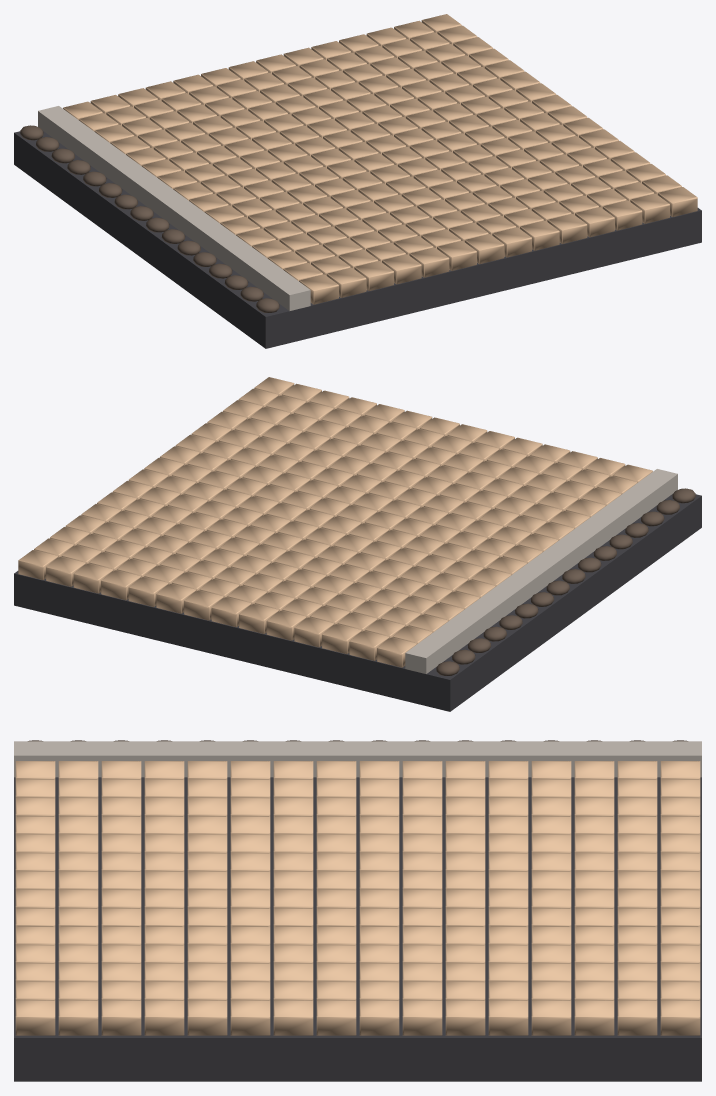
File: 28-sidewalk-straight.glb
3 renders of one model, top to bottom at view 1: azimuth 30°, elevation 25°; view 2: azimuth 150°, elevation 25°; view 3: azimuth 270°, elevation 25°, orthographic. The views are drawn at different scales.
Parts seen in each view (by area): view 1: Base, Curb, PaverProto.065, PaverProto.145, PaverProto.177, PaverProto.129, PaverProto.081, PaverProto.017, PaverProto.161, PaverProto.209, PaverProto.001, PaverProto.033 (+4 smaller); view 2: Base, Curb, PaverProto.080, PaverProto.160, PaverProto.192, PaverProto.144, PaverProto.096, PaverProto.032, PaverProto.176, PaverProto.224, PaverProto.016, PaverProto.048 (+4 smaller); view 3: Base, Curb, PaverProto.209, PaverProto.210, PaverProto.211, PaverProto.212, PaverProto.213, PaverProto.214, PaverProto.215, PaverProto.216, PaverProto.217, PaverProto.218 (+214 smaller).
Part boxes in pixels (<box>): Base: <box>14,131,701,348</box>; Curb: <box>38,106,310,310</box>; PaverProto.065: <box>409,247,449,277</box>; PaverProto.145: <box>547,214,587,243</box>; PaverProto.177: <box>602,200,642,230</box>; PaverProto.129: <box>519,220,559,250</box>; PaverProto.081: <box>437,240,476,270</box>; PaverProto.017: <box>326,267,366,297</box>; PaverProto.161: <box>575,207,614,237</box>; PaverProto.209: <box>657,187,697,216</box>; PaverProto.001: <box>299,274,338,304</box>; PaverProto.033: <box>354,261,393,290</box>; Base: <box>14,494,701,711</box>; Curb: <box>405,469,677,673</box>; PaverProto.080: <box>266,610,306,640</box>; PaverProto.160: <box>128,577,168,606</box>; PaverProto.192: <box>73,563,113,593</box>; PaverProto.144: <box>156,583,196,613</box>; PaverProto.096: <box>239,603,278,633</box>; PaverProto.032: <box>349,630,389,660</box>; PaverProto.176: <box>101,570,140,600</box>; PaverProto.224: <box>18,550,58,579</box>; PaverProto.016: <box>377,637,416,667</box>; PaverProto.048: <box>322,624,361,653</box>; Base: <box>14,777,701,1081</box>; Curb: <box>14,741,701,777</box>; PaverProto.209: <box>15,1000,55,1035</box>; PaverProto.210: <box>58,1000,98,1035</box>; PaverProto.211: <box>101,1000,141,1035</box>; PaverProto.212: <box>144,1000,184,1035</box>; PaverProto.213: <box>187,1000,227,1035</box>; PaverProto.214: <box>230,1000,270,1035</box>; PaverProto.215: <box>273,1000,313,1035</box>; PaverProto.216: <box>316,1000,356,1035</box>; PaverProto.217: <box>359,1000,399,1035</box>; PaverProto.218: <box>402,1000,442,1035</box>.
Size of the model in its own units: 3 by 0.315 by 3.
